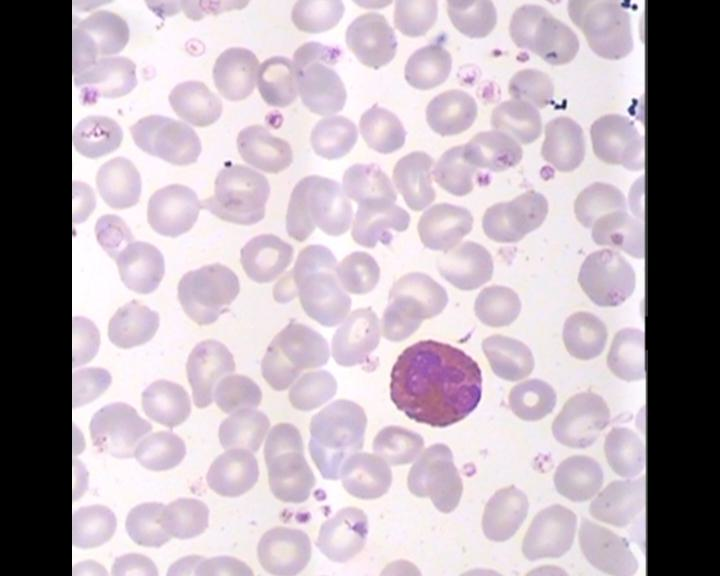eosi: (383, 334, 488, 430)
